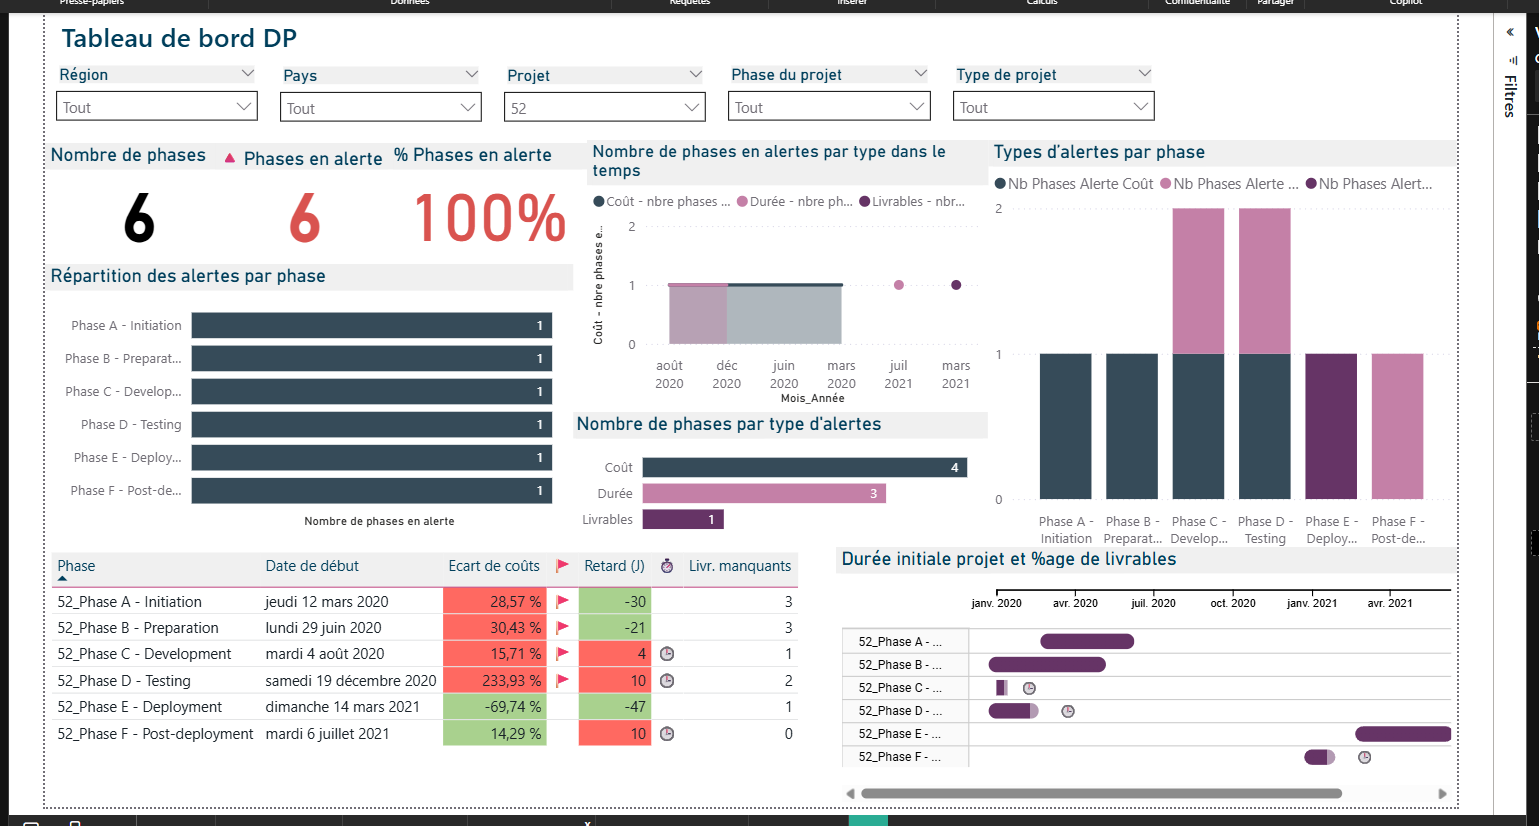

This screenshot's page, from the dashboard's own definition file:
{"tool":"powerbi","page":{"name":"DP - Dashboard","canvas":[1280,720],"ordinal":3},"visuals":[{"type":"textbox","box":[9.7,0,375.4,66.1],"z":0},{"type":"slicer","fields":{"Values":["Country_Profiles.Country"]},"box":[203.1,43.5,203.1,75.3],"z":1000},{"type":"slicer","fields":{"Values":["Projects_plans.Project_ID"]},"box":[406.2,43.5,203.1,75.3],"z":2000},{"type":"slicer","fields":{"Values":["Projects_plans.Phase"]},"box":[609.4,42.6,204,75.3],"z":3000},{"type":"slicer","fields":{"Values":["Project type.Project_Type"]},"box":[813.4,42.6,203.1,76.2],"z":4000},{"type":"card","title":"Nombre de phases","fields":{"Values":["Mesures_DP.Nb_Phases_DP"]},"box":[0,117.9,170.5,100.7],"z":5000},{"type":"card","title":"🔺Phases en alerte","fields":{"Values":["Mesures_DP.Nb_Phases_En_Alerte_DP"]},"box":[149.6,117.9,171.4,100.7],"z":6000},{"type":"card","title":"% Phases en alerte","fields":{"Values":["Mesures_DP.Pct_Phases_En_Alerte_DP"]},"box":[311.4,117.9,180.8,100.2],"z":7000},{"type":"clusteredBarChart","title":"Nombre de phases par type d''alertes","fields":{"Category":["Type_Alerte_DP.Type_Alerte"],"Y":["Mesures_DP.Nb_Phases_Alerte_Par_Type_DP"]},"box":[477,361.8,378.1,121.5],"z":8000},{"type":"clusteredBarChart","title":"Répartition des alertes par phase","fields":{"Category":["Projects_plans.Phase"],"Y":["Mesures_DP.Nb_Phases_En_Alerte_DP"]},"box":[0,227.6,478.8,243.9],"z":9000},{"type":"columnChart","title":"Types d’alertes par phase","fields":{"Category":["Projects_plans.Phase"],"Y":["Mesures_DP.Nb_Phases_En_Alerte_Cout_DP","Mesures_DP.Nb_Phases_En_Alerte_Duree_DP","Mesures_DP.Nb_Phases_En_Alerte_Livrables_DP"]},"box":[855.1,115.2,425.3,389.9],"z":10000},{"type":"Gantt1448688115699","title":"Durée initiale projet et %age de livrables","fields":{"Task":["Projects_plans.Project_Phase_ID"],"StartDate":["Calendar.Mois_Année"],"Duration":["Sum(Actual_Duration.Actual_Duration)"],"ExtraInformation":["Projects_plans.Planned_Duration","Actual_Duration.Retard_Jours"],"Completion":["Sum(Actual_Duration.%_Durée_Estimée)"],"Resource":["Actual_Duration.⏱️ Retard"]},"box":[717.3,484.2,563.1,235.8],"z":11000},{"type":"tableEx","fields":{"Values":["Projects_plans.Project_Phase_ID","Projects_plans.Start_Date","Sum(Actual_Costs.Ecart_Cost)","Actual_Costs.🚩 Dépassement coûts","Sum(Actual_Duration.Retard_Jours)","Actual_Duration.⏱️ Retard","Sum(Actual_Delivrable.Livrables_Manquants)"]},"box":[0,484.2,717.3,235.8],"z":12000},{"type":"areaChart","title":"Nombre de phases en alertes par type dans le temps","fields":{"Category":["Calendar.Mois_Année"],"Y":["Calendar.Nb_Phases_Alerte_Cout_Mensuel","Calendar.Nb_Phases_Alerte_Duree_Mensuel","Calendar.Nb_Phases_Alerte_Livrable_Mensuel"]},"box":[491.5,115.2,363.6,244.8],"z":13000},{"type":"slicer","fields":{"Values":["Country_Profiles.Region"]},"box":[0,42.6,203.1,75.3],"z":14000}]}

Visuals, with their boxes on the page's 1280x720 design canvas (x1, y1, x2, y2). These are canvas units, not pixel positions in the 1539x826 screenshot, which may show the page scaled, cropped or inside an application window:
textbox: (10,0,385,66)
slicer - Country_Profiles.Country: (203,44,406,119)
slicer - Projects_plans.Project_ID: (406,44,609,119)
slicer - Projects_plans.Phase: (609,43,813,118)
slicer - Project type.Project_Type: (813,43,1016,119)
"Nombre de phases" card: (0,118,170,219)
"🔺Phases en alerte" card: (150,118,321,219)
"% Phases en alerte" card: (311,118,492,218)
"Nombre de phases par type d''alertes" clusteredBarChart: (477,362,855,483)
"Répartition des alertes par phase" clusteredBarChart: (0,228,479,472)
"Types d’alertes par phase" columnChart: (855,115,1280,505)
"Durée initiale projet et %age de livrables" Gantt1448688115699: (717,484,1280,720)
tableEx - Projects_plans.Project_Phase_ID x Projects_plans.Start_Date: (0,484,717,720)
"Nombre de phases en alertes par type dans le temps" areaChart: (492,115,855,360)
slicer - Country_Profiles.Region: (0,43,203,118)
